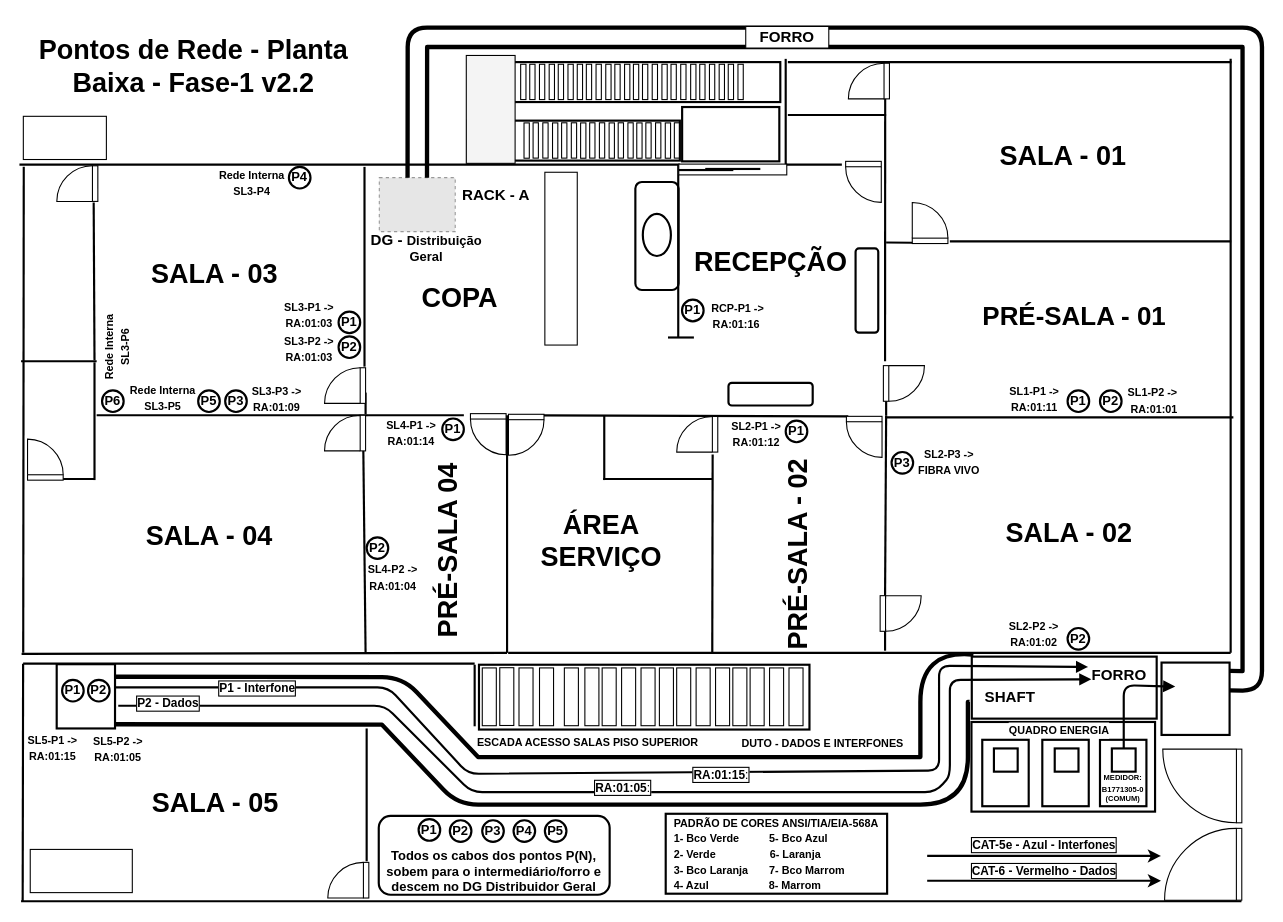
This 1283x922 diagram has some shape labels left out. Grey dashed boxes stand in for pictures. Each missing label, with the centre of its shape:
"PISO SUPERIOR" belongs at pixel 64 137.
"PISO TÉRREO" belongs at pixel 80 870.
"Quadro Distribuição" belongs at pixel 1195 698.
